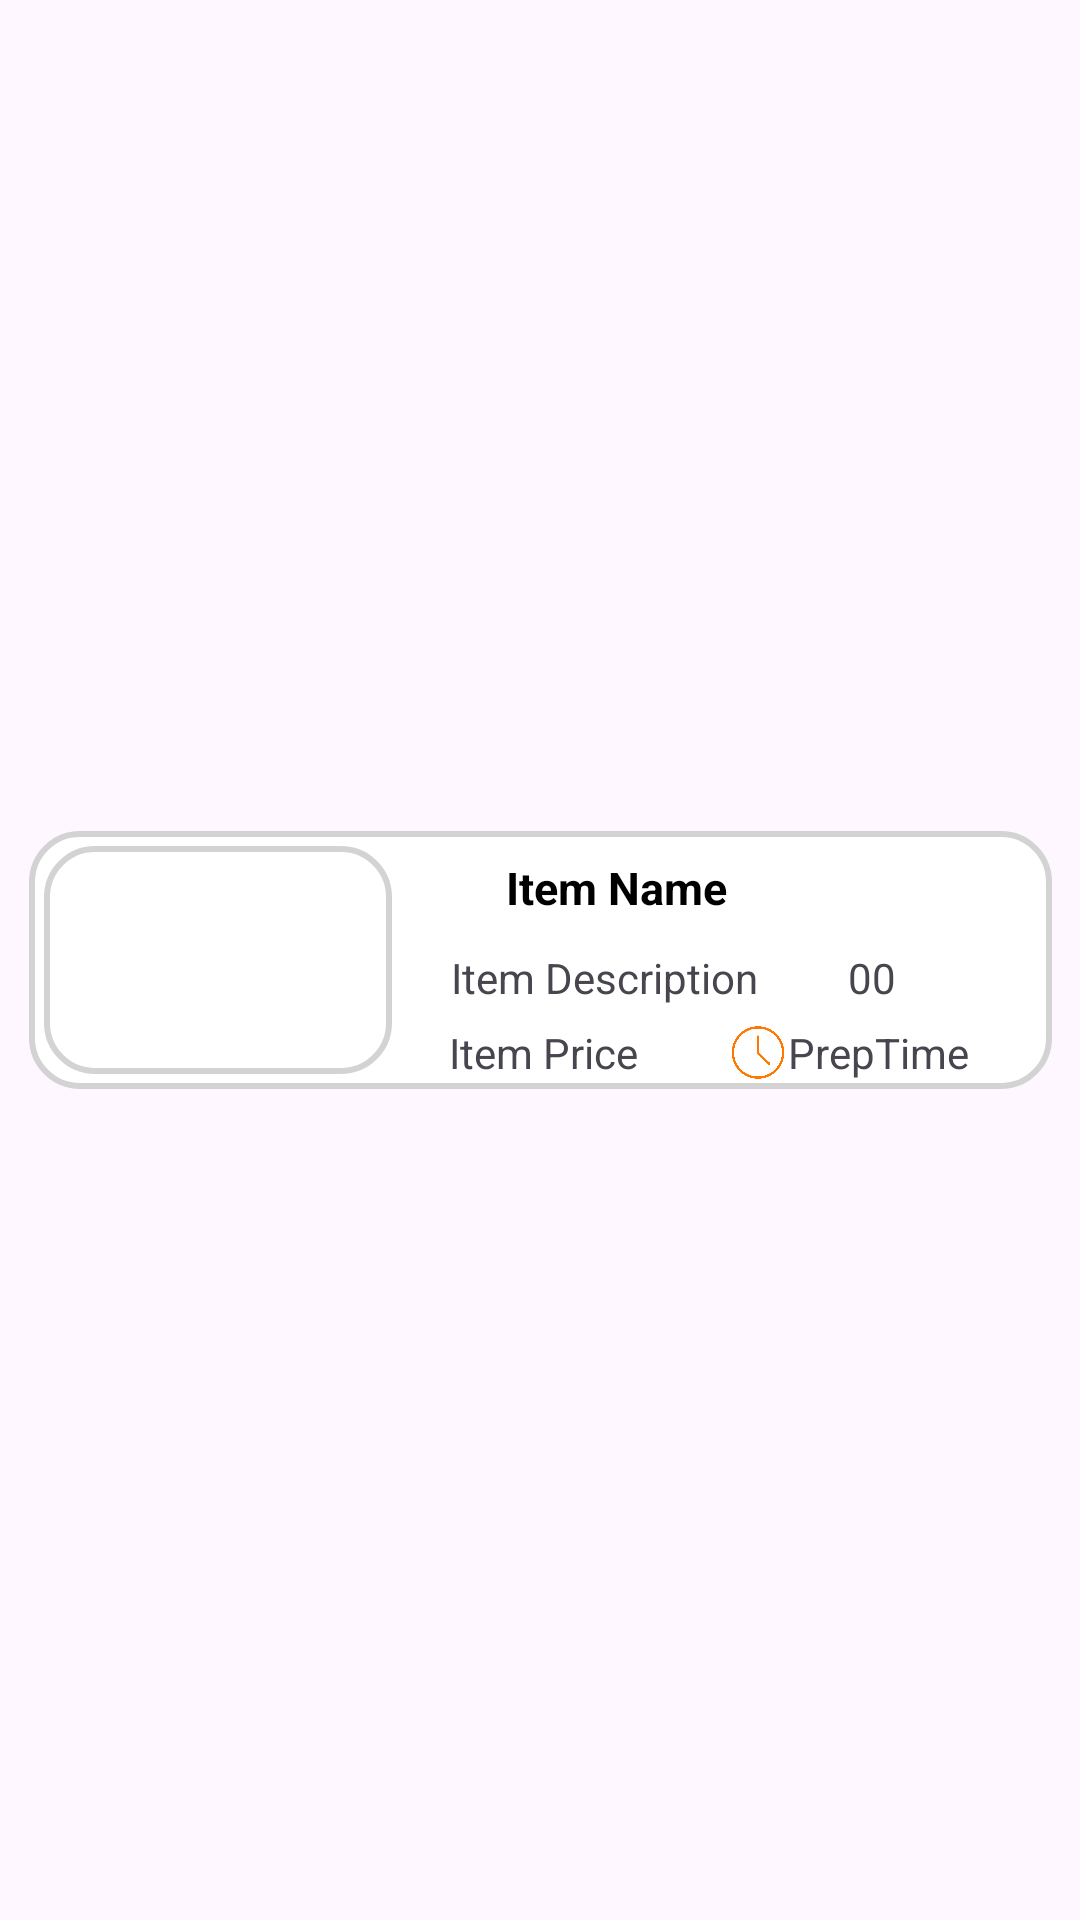

Icons on this 1080*1920 Android screen, each with its box as (x1, y1, x2, y2):
countdown: (732, 1026, 784, 1079)
